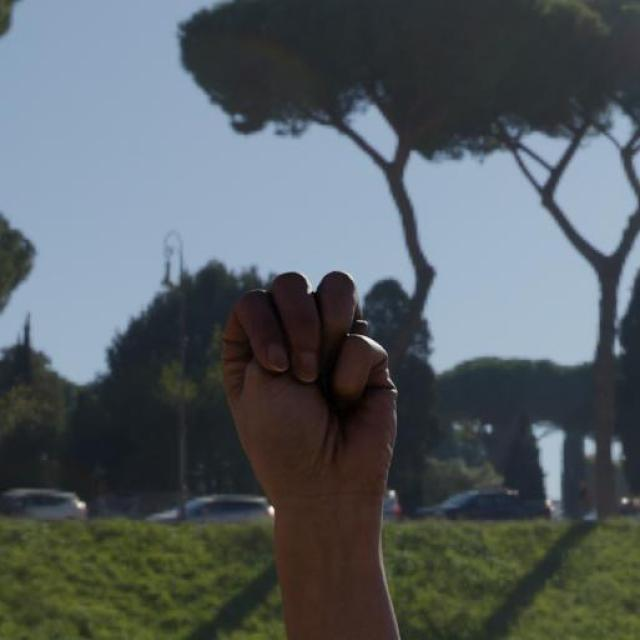M: (216, 267, 403, 512)
